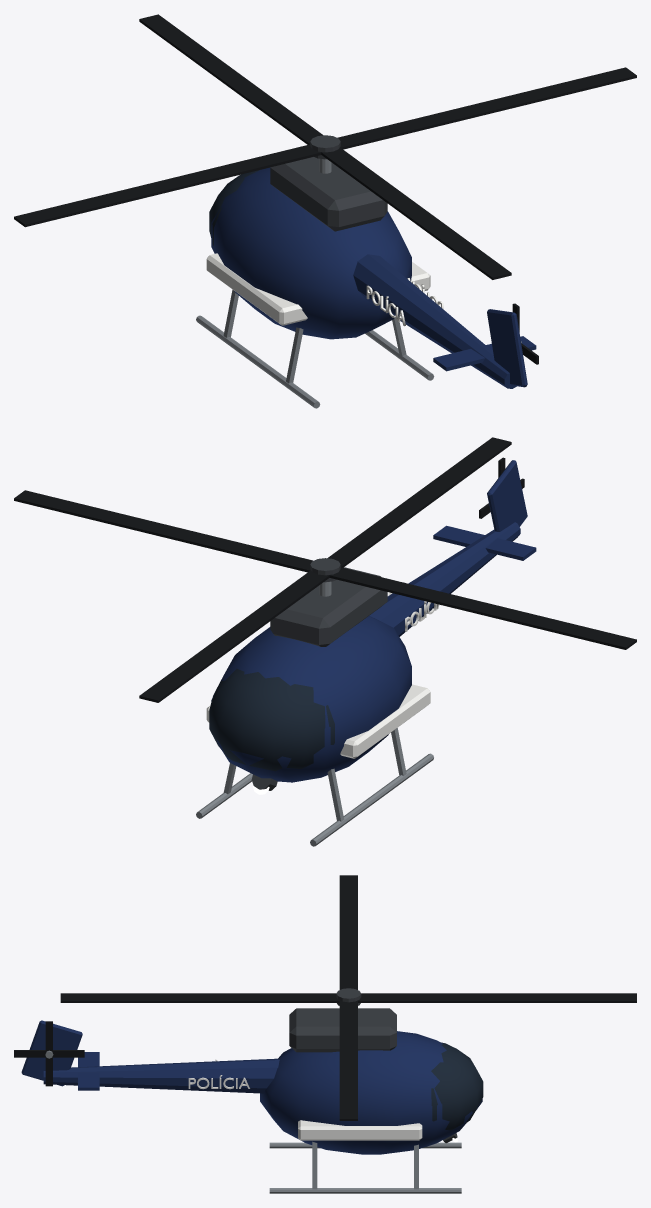
Rendered from helicoptero_policia.glb.
3 renders of one model, top to bottom at view 1: azimuth 30°, elevation 25°; view 2: azimuth 150°, elevation 25°; view 3: azimuth 270°, elevation 25°, orthographic. The views are drawn at different scales.
Visible parts, largest first — view 1: helicoptero_corpo, rotor_principal; view 2: helicoptero_corpo, rotor_principal; view 3: helicoptero_corpo, rotor_principal, rotor_cauda.
Part boxes in pixels (bbox=[...]): helicoptero_corpo: bbox=[196, 157, 536, 408]; rotor_principal: bbox=[14, 14, 636, 279]; helicoptero_corpo: bbox=[196, 460, 536, 846]; rotor_principal: bbox=[14, 437, 636, 702]; helicoptero_corpo: bbox=[21, 1008, 483, 1193]; rotor_principal: bbox=[60, 875, 636, 1120]; rotor_cauda: bbox=[14, 1021, 84, 1086].
Size of the model in its own units: 10.2 by 3.47 by 11.03.
